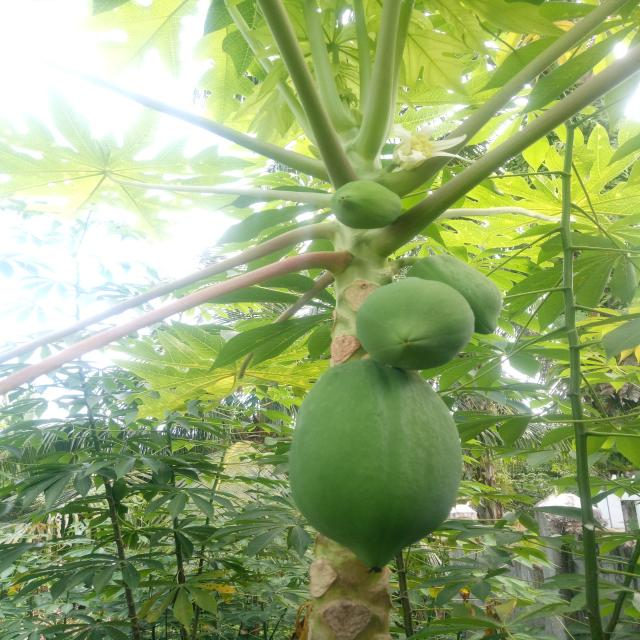Pepaya unrippen: (285, 364, 465, 569), (366, 279, 470, 369)
